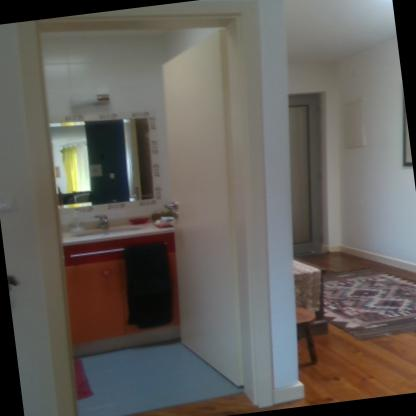open: (6, 3, 294, 415)
